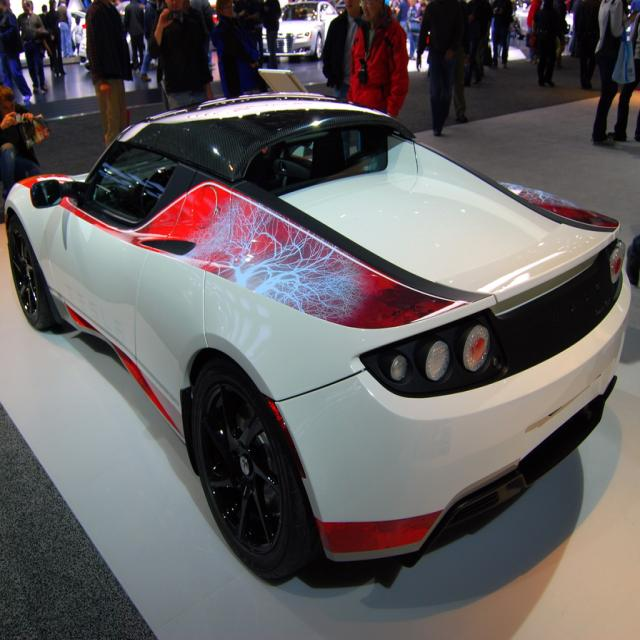car: (12, 80, 630, 587)
